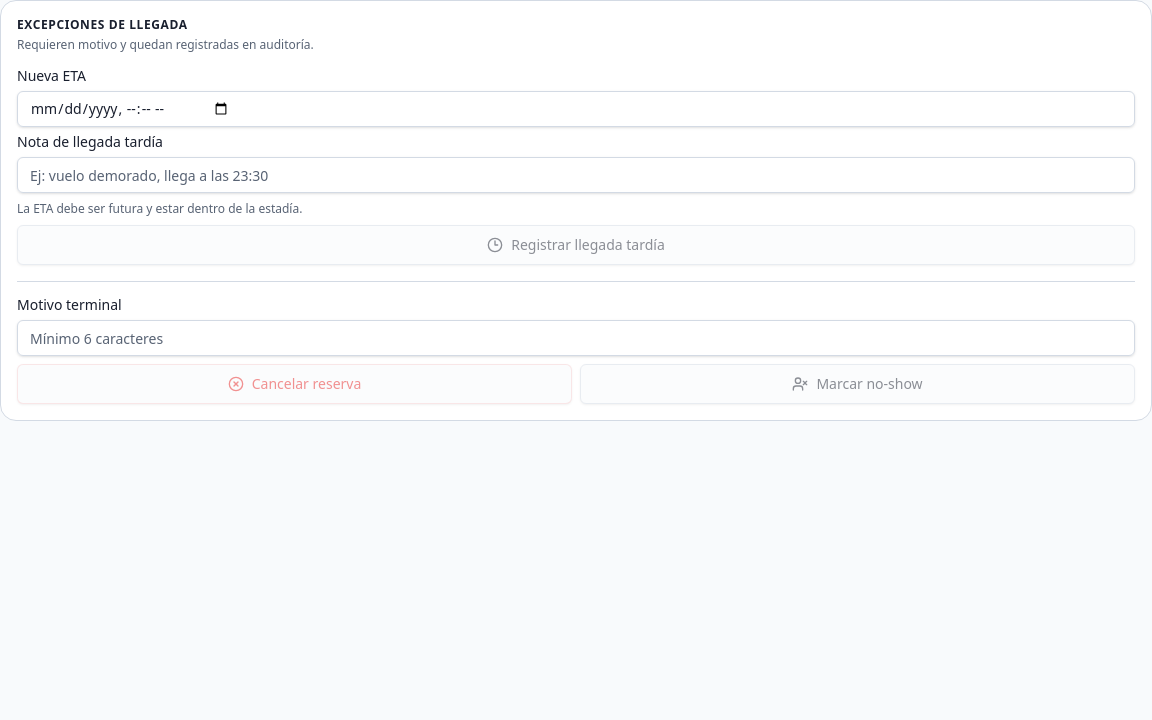
Test: BookingArrivalExceptionActions › keeps the typed reason when opening the confirmation and allows going back without executing
Type "Cliente no responde a contactos" into the field labelled "Motivo terminal". click: (576,338)
box: [17, 320, 1135, 356]
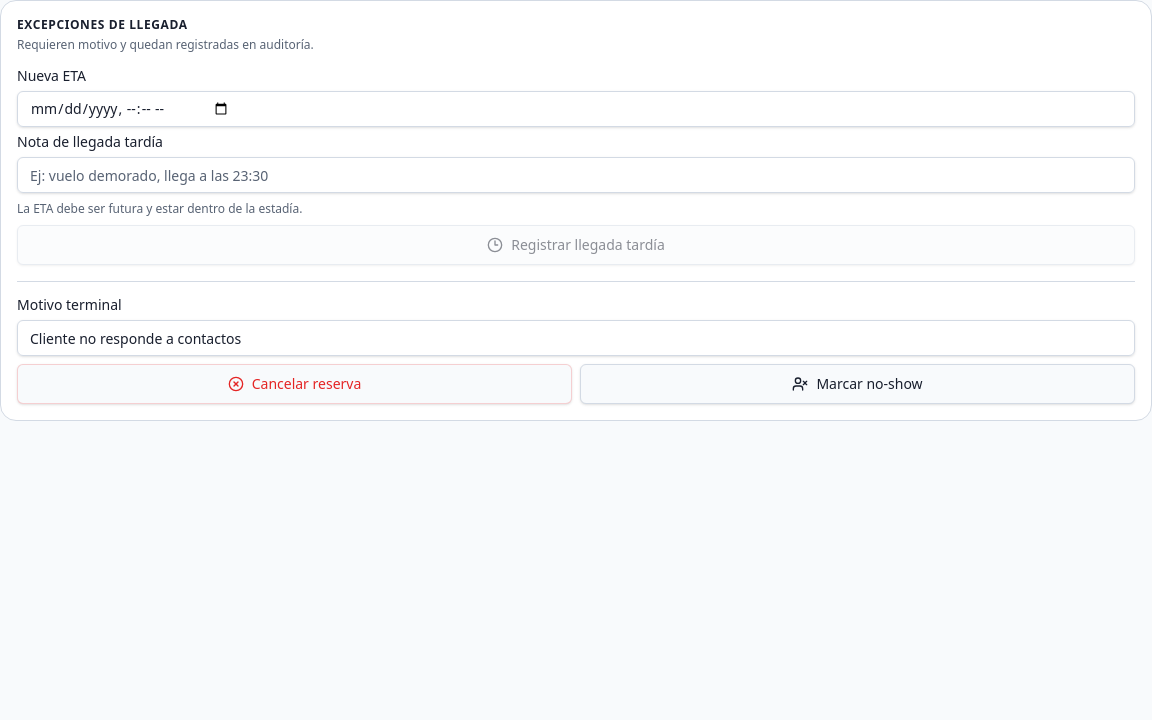
Click the button "Cancelar reserva". click: (294,384)
box: [17, 364, 572, 404]
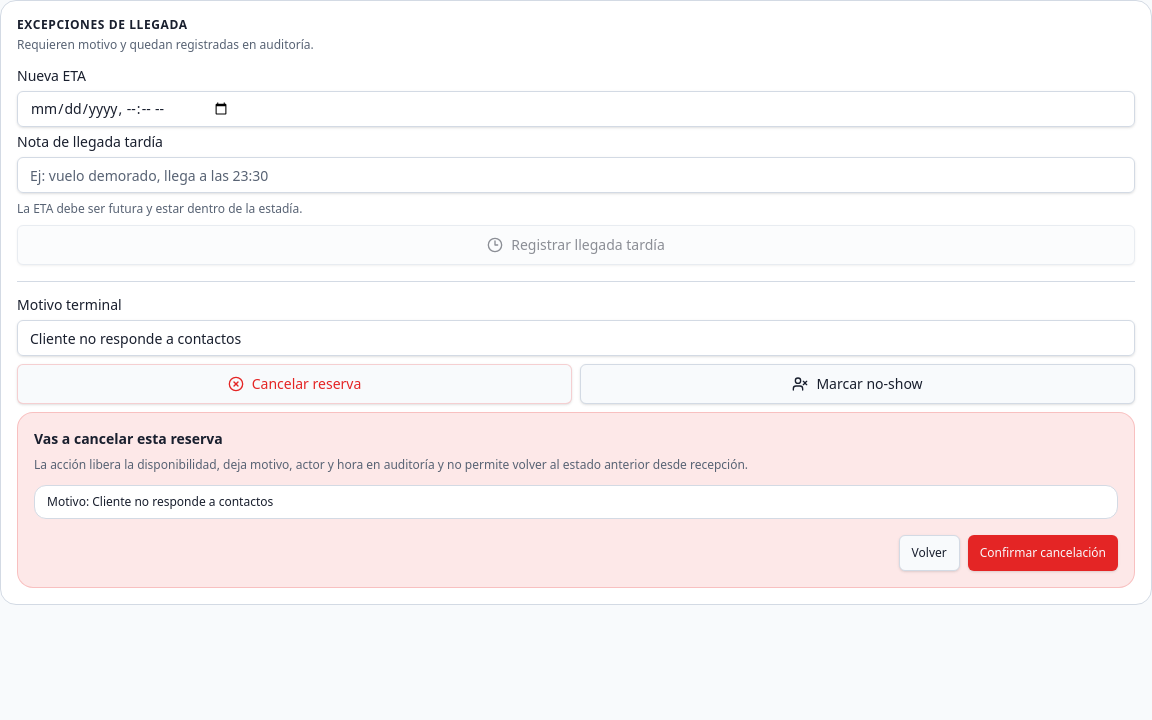
Now the text "Vas a cancelar esta reserva" is shown, box [34, 429, 223, 448]
Click the button "Volver". click: (929,553)
box: [899, 535, 960, 571]
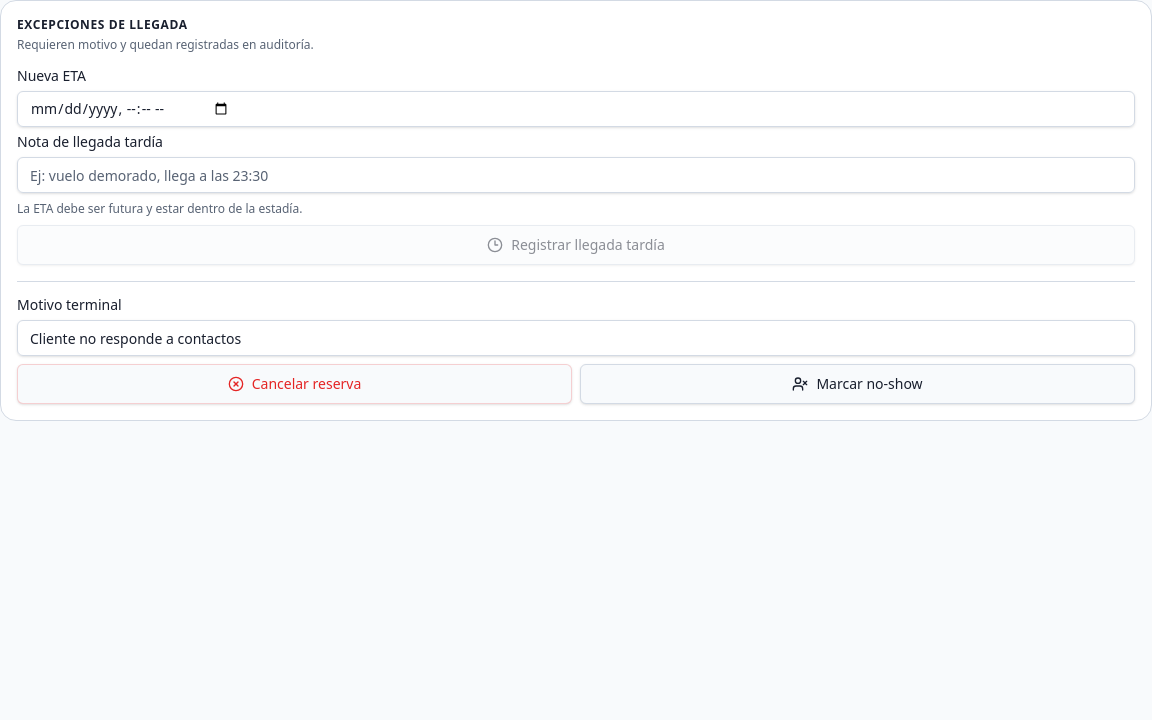
Now the text "Vas a cancelar esta reserva" is gone
